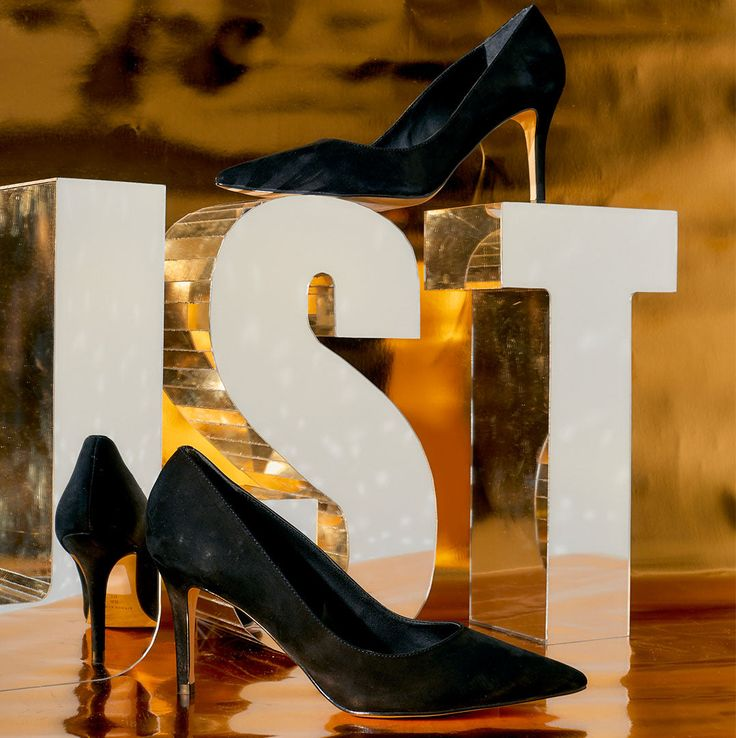gamuza: (54, 6, 588, 716)
